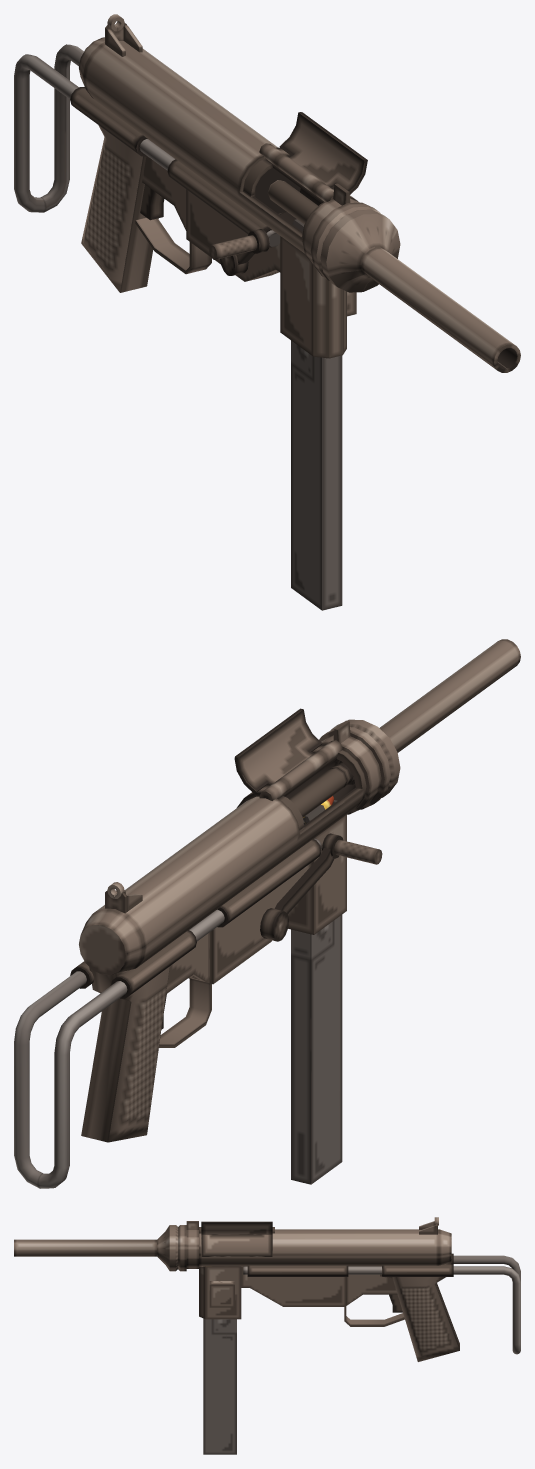
Rendered from greasegun.obj.
The picture shows the model from 3 angles, top to bottom: view 1: azimuth 30°, elevation 25°; view 2: azimuth 150°, elevation 25°; view 3: azimuth 270°, elevation 25°; orthographic projection. The views are drawn at different scales.
Visible parts, largest first — view 1: Gun, Magazine, Stock, Flap, Handle; view 2: Gun, Magazine, Stock, Flap, Handle; view 3: Gun, Magazine, Stock, Flap.
Part boxes in pixels (left/top/right/bottom): Gun: left=70, top=14, right=520, bottom=372; Magazine: left=291, top=219, right=342, bottom=610; Stock: left=14, top=44, right=280, bottom=246; Flap: left=279, top=112, right=367, bottom=194; Handle: left=209, top=229, right=269, bottom=275; Gun: left=70, top=639, right=520, bottom=1142; Magazine: left=291, top=800, right=342, bottom=1184; Stock: left=14, top=838, right=321, bottom=1188; Flap: left=234, top=708, right=322, bottom=794; Handle: left=260, top=833, right=382, bottom=941; Gun: left=14, top=1217, right=459, bottom=1361; Magazine: left=203, top=1318, right=236, bottom=1454; Stock: left=243, top=1255, right=520, bottom=1354; Flap: left=201, top=1221, right=272, bottom=1234.
Size of the model in its own units: 2.22 by 7.81 by 15.06.
